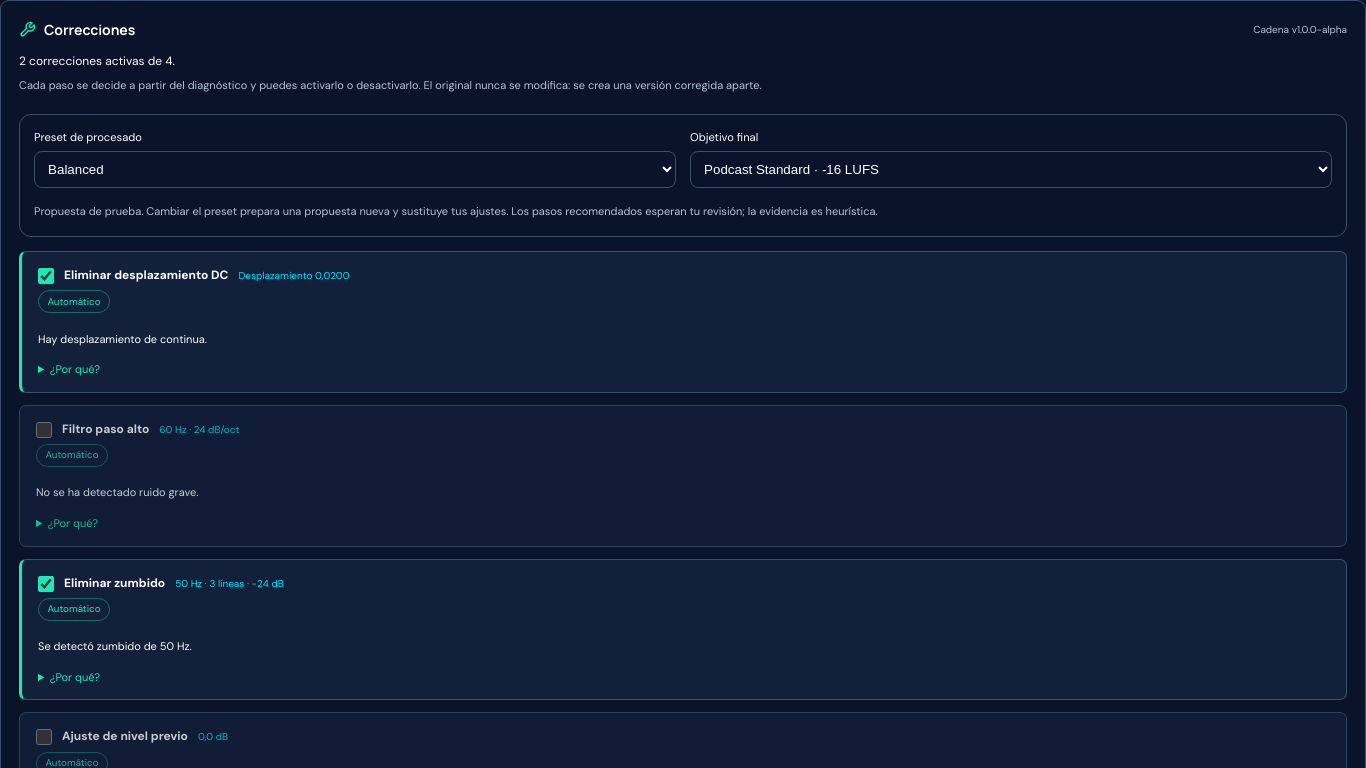
Scenario: lists every recommended step with its reason, parameters and evidence
The width and height of the screenshot is (1366, 768).
expect the text "2 correcciones activas de 4." is shown: met, box x1=19 y1=53 x2=175 y2=69
expect the checkbox labelled "Eliminar zumbido 50 Hz · 3 líneas · −24 dB" is checked: met, box x1=38 y1=576 x2=54 y2=592
What coordinates should you click on to do the following:
click the heading "¿Por qué?" below "Se detectó zumbido de 50 Hz."
I would click on:
 (75, 677)
Its box is x1=50 y1=670 x2=100 y2=684.
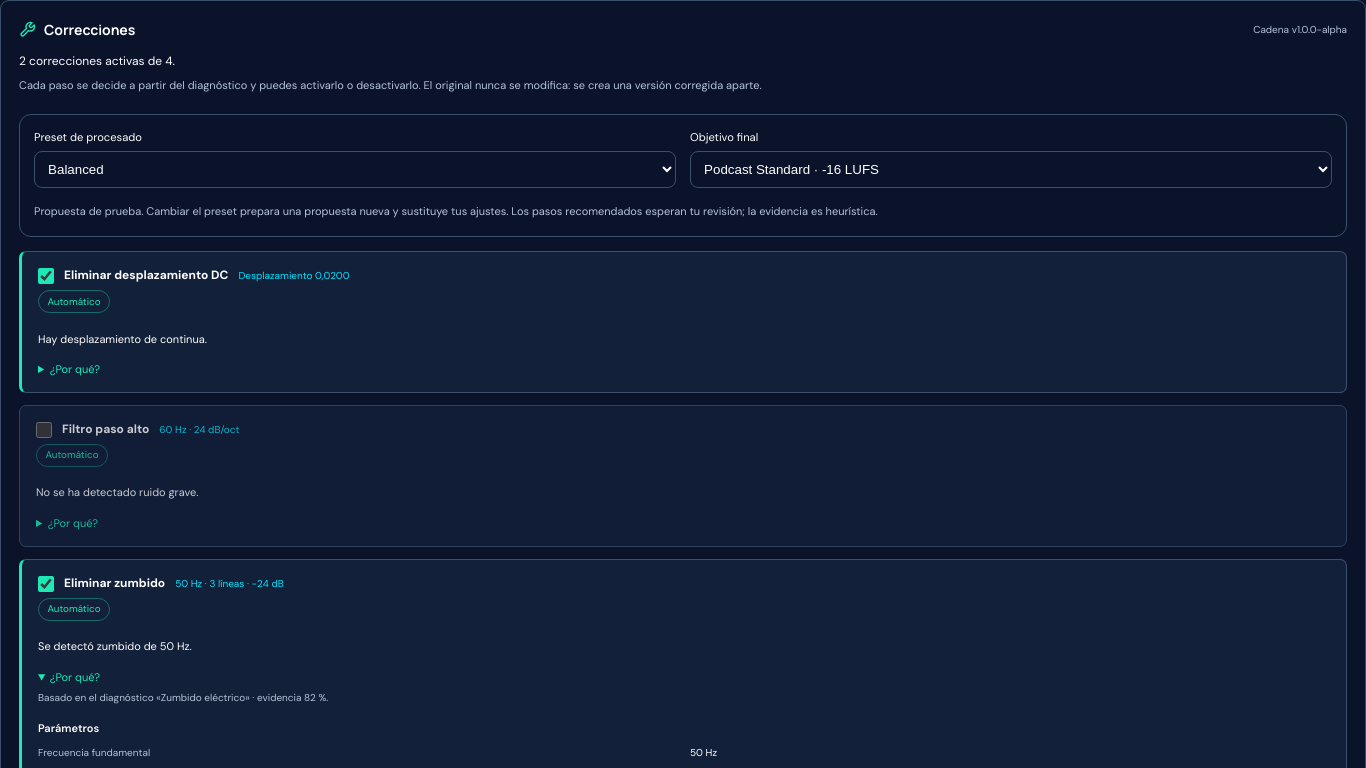
expect the checkbox labelled "Filtro paso alto 60 Hz · 24 dB/oct" is not checked: met, box x1=36 y1=422 x2=52 y2=438
expect the text "Basado en el diagnóstico «Zumbido eléctrico» · evidencia 82 %" is shown: met, box x1=38 y1=691 x2=328 y2=704
